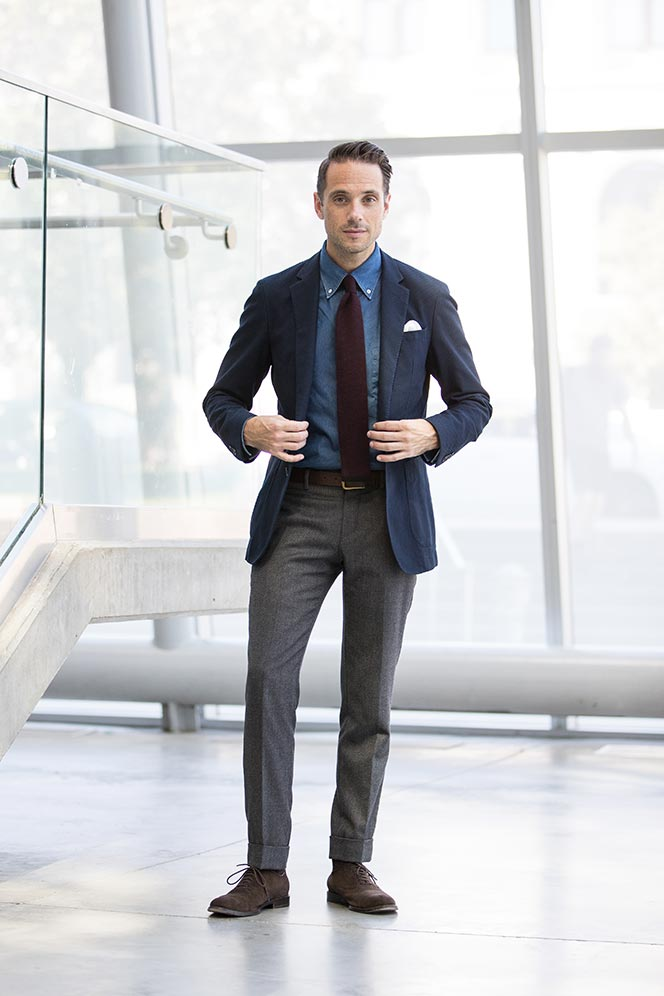NOTSAFE: (270, 138, 435, 486)
